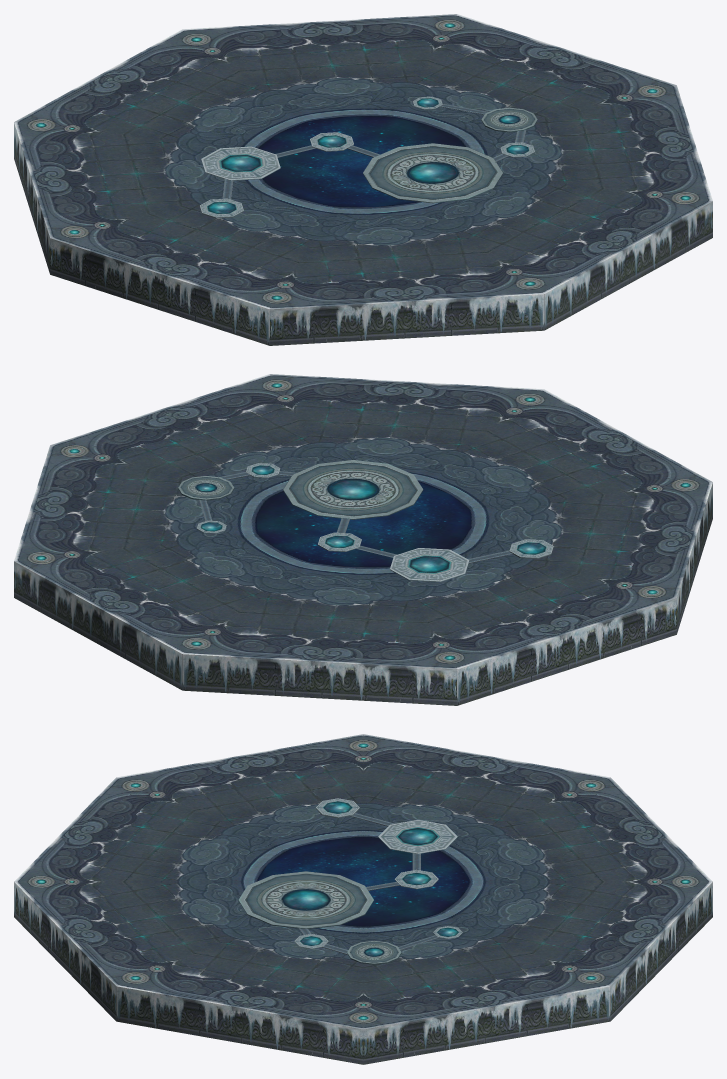
File: fb_bangzhan_yuantai.FBX
3 views of the same model, one above another, from view 1: azimuth 30°, elevation 25°; view 2: azimuth 150°, elevation 25°; view 3: azimuth 270°, elevation 25° (orthographic). The views are drawn at different scales.
Visible parts, largest first — view 1: fb_bangzhan_yuantai; view 2: fb_bangzhan_yuantai; view 3: fb_bangzhan_yuantai.
Boxes of the visible parts, x1,y1,x2,y2 form: fb_bangzhan_yuantai: (14,14,712,345); fb_bangzhan_yuantai: (14,374,712,705); fb_bangzhan_yuantai: (14,734,712,1064).
Bounding box in the file's own units: 3200 × 185 × 3200.
